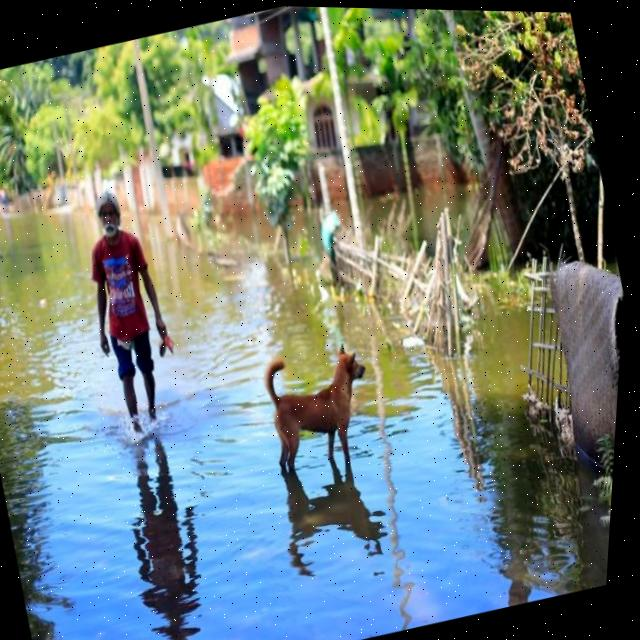civilian: (50, 177, 208, 448)
dog: (231, 316, 402, 501)
